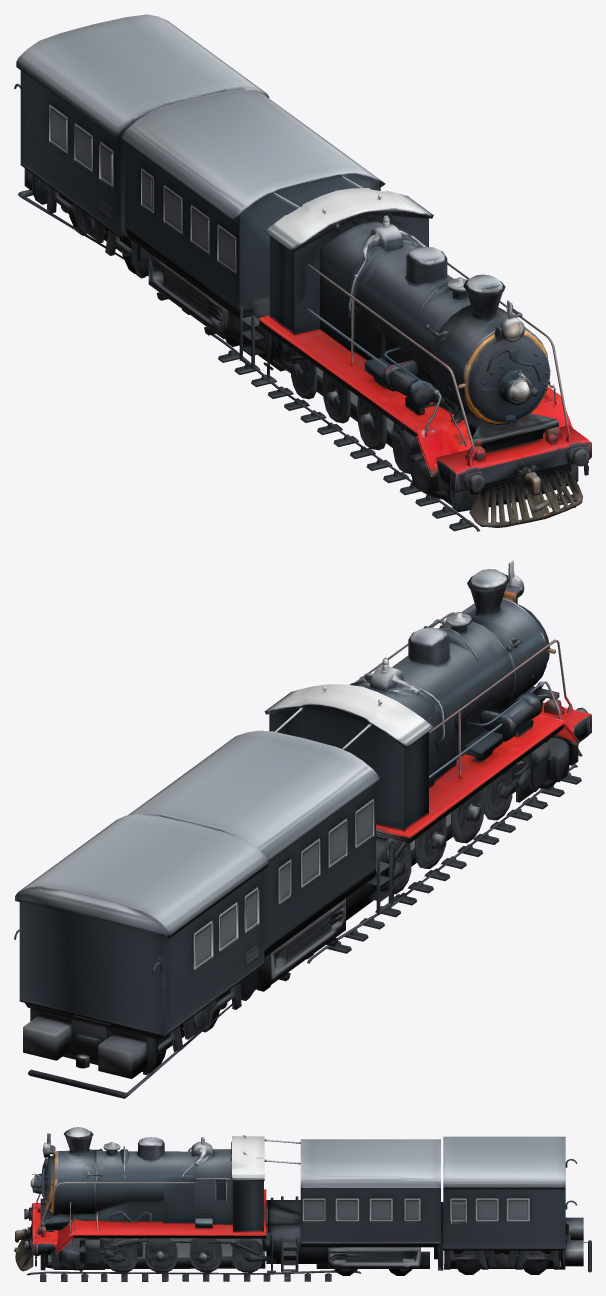
Rendered from locomotora_de_tren_3d.fbx.
3 views of the same model, one above another, from view 1: azimuth 30°, elevation 25°; view 2: azimuth 150°, elevation 25°; view 3: azimuth 270°, elevation 25° (orthographic). The views are drawn at different scales.
Parts seen in each view (by area): view 1: tripo_7b1f44ff_fa5a_4e76_9a35_6bbcf2c30713; view 2: tripo_7b1f44ff_fa5a_4e76_9a35_6bbcf2c30713; view 3: tripo_7b1f44ff_fa5a_4e76_9a35_6bbcf2c30713.
Part boxes in pixels (x1,y1,x2,y2): tripo_7b1f44ff_fa5a_4e76_9a35_6bbcf2c30713: [14, 14, 591, 531]; tripo_7b1f44ff_fa5a_4e76_9a35_6bbcf2c30713: [14, 560, 591, 1098]; tripo_7b1f44ff_fa5a_4e76_9a35_6bbcf2c30713: [14, 1127, 591, 1281].
Size of the model in its own units: 0.1958 by 0.2534 by 0.9995.
1 material, 1 textured.
